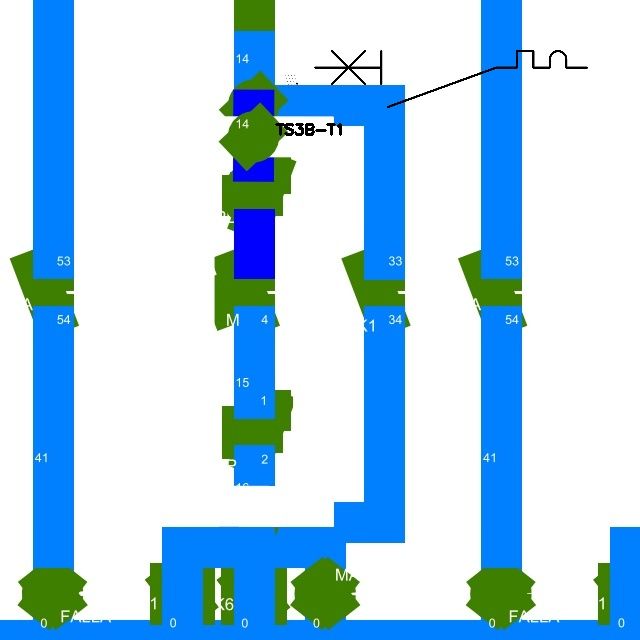interruptor_termomagnetico: (308, 44, 593, 114)
